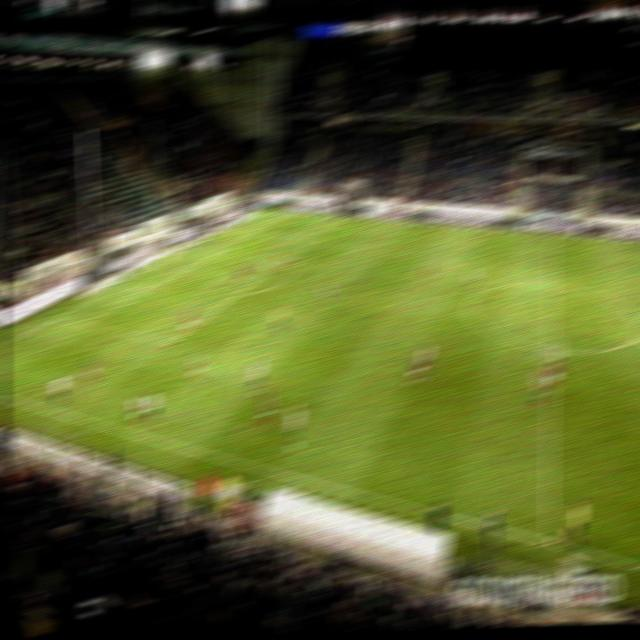bigarea_bottom_inner: (163, 337, 181, 347)
bigarea_bottom_outter: (47, 311, 64, 323)
bigarea_top_inner: (310, 231, 327, 241)
bigarea_top_outter: (224, 222, 242, 233)
bottom_arc_area_intersection: (229, 288, 246, 299)
corner: (258, 206, 276, 218)
halfcircle_bottom: (542, 343, 560, 354)
halfcircle_top: (543, 278, 561, 288)
midline_bottom_intersection: (540, 534, 560, 550)
midline_top_intersection: (543, 229, 561, 240)
smallarea_bottom_inner: (144, 283, 162, 293)
smallarea_bottom_outter: (112, 278, 129, 289)
smallarea_top_inner: (217, 242, 234, 253)
smallarea_top_outter: (188, 240, 206, 251)
top_arc_area_intersection: (278, 252, 295, 264)
